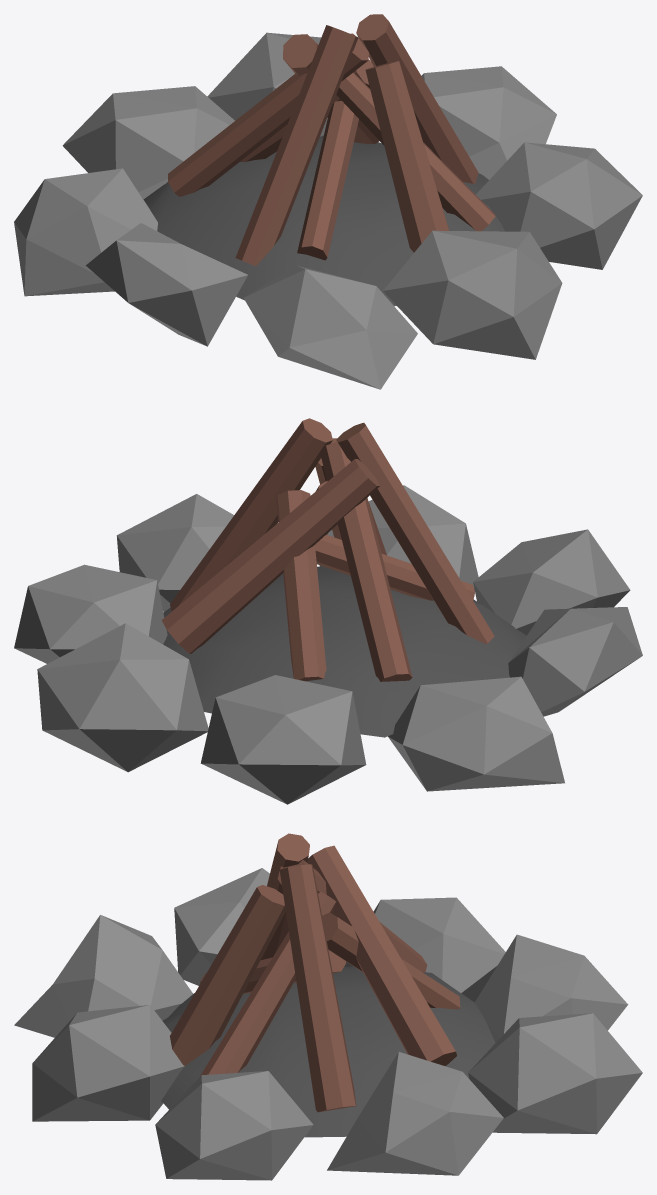
The model's file is Ohěn1.0_textured.fbx.
3 renders of one model, top to bottom at view 1: azimuth 30°, elevation 25°; view 2: azimuth 150°, elevation 25°; view 3: azimuth 270°, elevation 25°, orthographic. The views are drawn at different scales.
Visible parts, largest first — view 1: podstavaOhně, pPlatonic5, pPlatonic8, pPlatonic3, pPlatonic1, pPlatonic4, pPlatonic2, pPlatonic7, DrevoVnitrekSvetlejsi5, DrevoVnitrekSvetlejsi7, DrevoVnitrekSvetlejsi3, DrevoVnitrekSvetlejsi4 (+5 smaller); view 2: podstavaOhně, pPlatonic6, pPlatonic4, pPlatonic1, DrevoVnitrekSvetlejsi1, pPlatonic7, pPlatonic3, pPlatonic2, DrevoVnitrekSvetlejsi5, DrevoVnitrekSvetlejsi3, pPlatonic8, DrevoVnitrekSvetlejsi4 (+3 smaller); view 3: podstavaOhně, pPlatonic6, pPlatonic5, pPlatonic7, pPlatonic8, pPlatonic3, DrevoVnitrekSvetlejsi4, pPlatonic4, DrevoVnitrekSvetlejsi1, DrevoVnitrekSvetlejsi7, pPlatonic1, pPlatonic2 (+5 smaller).
Part boxes in pixels (x1,y1,x2,y2): podstavaOhně: [143, 138, 504, 306]; pPlatonic5: [383, 230, 562, 359]; pPlatonic8: [476, 142, 642, 269]; pPlatonic3: [243, 265, 417, 389]; pPlatonic1: [14, 168, 157, 296]; pPlatonic4: [62, 86, 234, 199]; pPlatonic2: [86, 223, 247, 346]; pPlatonic7: [421, 66, 556, 179]; DrevoVnitrekSvetlejsi5: [235, 25, 358, 265]; DrevoVnitrekSvetlejsi7: [365, 60, 449, 252]; DrevoVnitrekSvetlejsi3: [168, 33, 368, 196]; DrevoVnitrekSvetlejsi4: [356, 14, 478, 183]; podstavaOhně: [163, 566, 526, 737]; pPlatonic6: [37, 623, 208, 772]; pPlatonic4: [200, 675, 366, 804]; pPlatonic1: [388, 676, 564, 791]; DrevoVnitrekSvetlejsi1: [161, 459, 379, 653]; pPlatonic7: [14, 564, 167, 663]; pPlatonic3: [473, 529, 630, 635]; pPlatonic2: [508, 607, 642, 716]; DrevoVnitrekSvetlejsi5: [336, 422, 494, 644]; DrevoVnitrekSvetlejsi3: [320, 442, 412, 681]; pPlatonic8: [116, 494, 233, 611]; DrevoVnitrekSvetlejsi4: [170, 418, 332, 611]; podstavaOhně: [161, 966, 495, 1137]; pPlatonic6: [468, 1013, 642, 1134]; pPlatonic5: [32, 1005, 184, 1121]; pPlatonic7: [327, 1052, 503, 1175]; pPlatonic8: [155, 1071, 313, 1180]; pPlatonic3: [14, 915, 192, 1037]; DrevoVnitrekSvetlejsi4: [279, 864, 356, 1112]; pPlatonic4: [474, 934, 628, 1042]; DrevoVnitrekSvetlejsi1: [307, 845, 456, 1065]; DrevoVnitrekSvetlejsi7: [170, 885, 285, 1065]; pPlatonic1: [344, 897, 505, 1002]; pPlatonic2: [174, 868, 269, 985].
Bounding box in the file's own units: 6.49 × 3.09 × 6.8.
